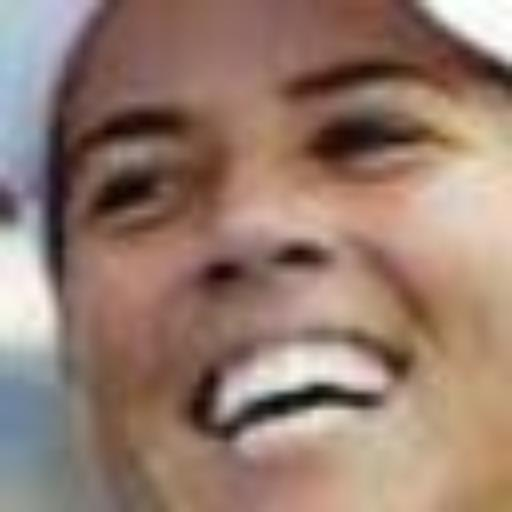left_eye: (304, 117, 441, 166)
left_lip_corner: (375, 342, 423, 390)
right_eye: (84, 166, 180, 222)
right_lip_corner: (171, 393, 223, 441)
